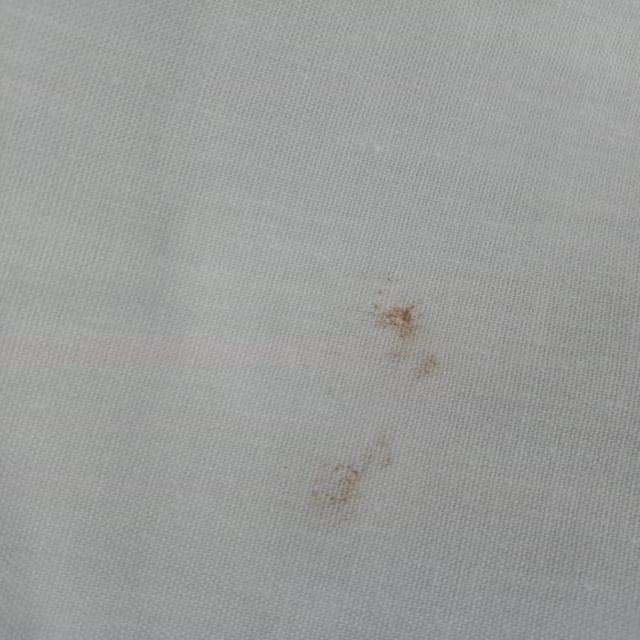stain: (350, 290, 471, 390), (295, 423, 411, 523)
